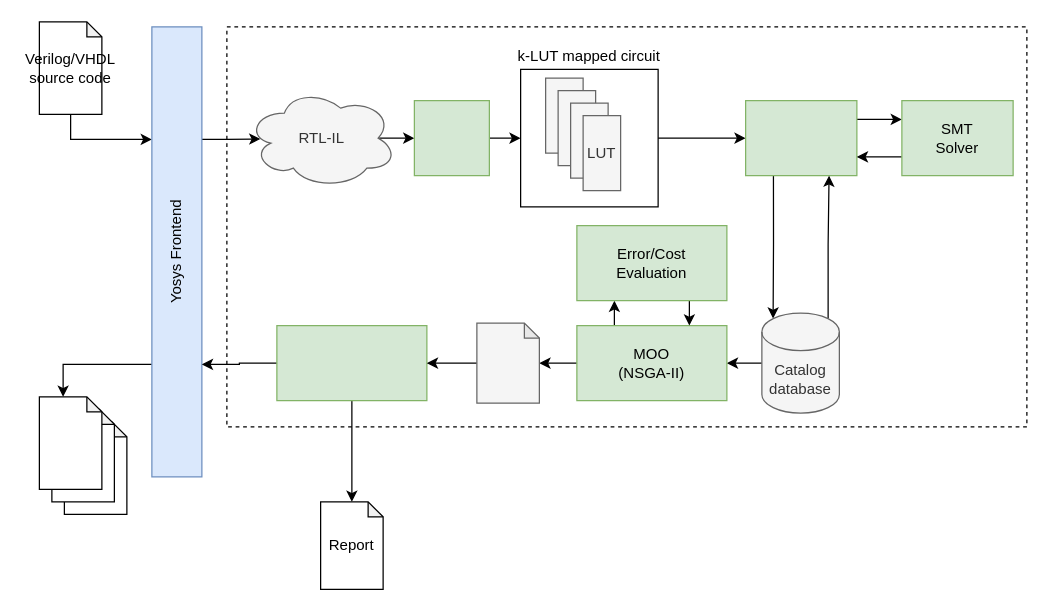
This 1049x611 diagram has some shape labels left out. The shapes that lost their labels are listed below. From the top down, each one's box as (x1, y1, x2, y2) in pixels, then its label:
(413, 99, 489, 176): K-LUT Mapping
(744, 99, 857, 176): Catalog Generation Procedure
(276, 324, 427, 401): Rewriting
(476, 322, 539, 403): Pareto configurations
(38, 396, 102, 489): Approximate Implemenation
